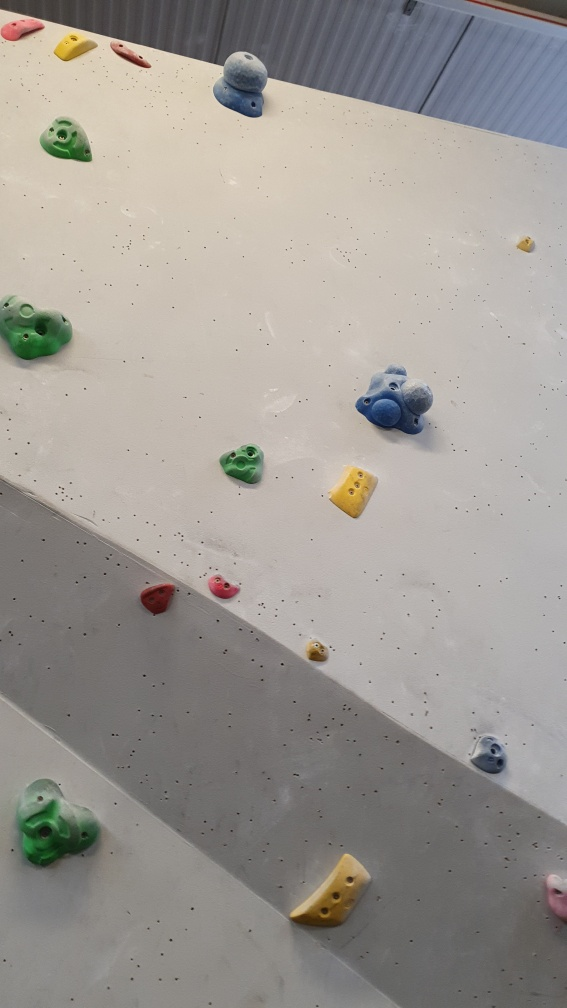Crimp: (287, 855, 375, 932), (331, 462, 386, 524), (114, 35, 158, 73)
Jug: (14, 770, 105, 875), (1, 283, 75, 364), (31, 106, 95, 166), (215, 437, 271, 492)
Pinch: (49, 23, 102, 62)
Sloper: (352, 356, 436, 441), (214, 44, 272, 122)
